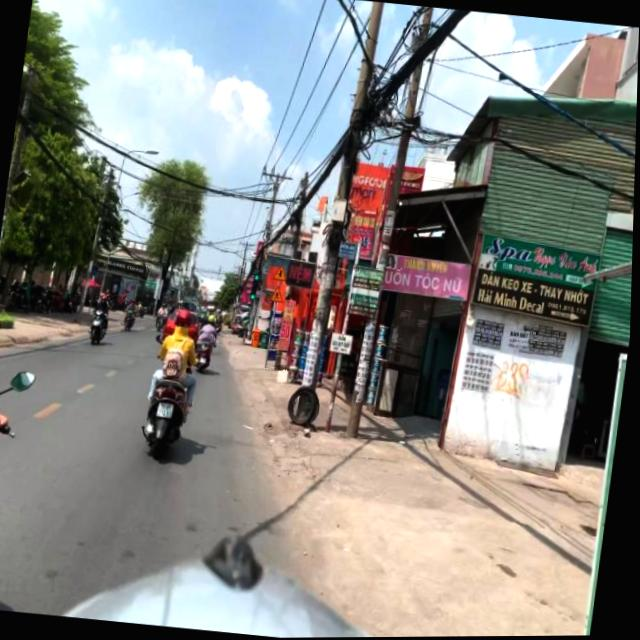Giao nhau voi duong khong uu tien ben trai: (273, 264, 291, 282)
Nguoi di bo cat ngang: (270, 285, 287, 303)
